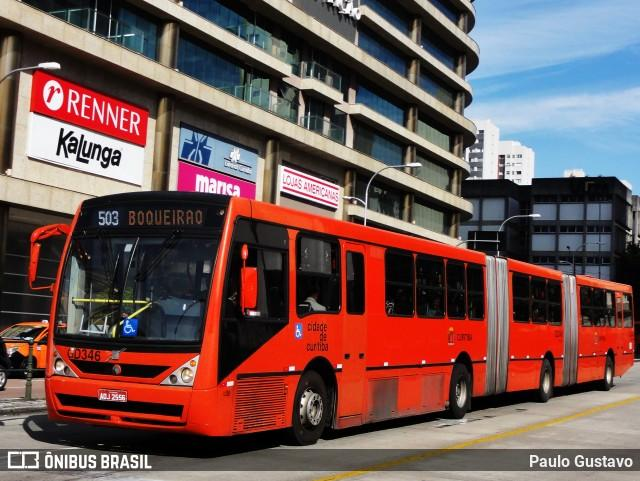BOQUEIRAO: (124, 207, 206, 229)
